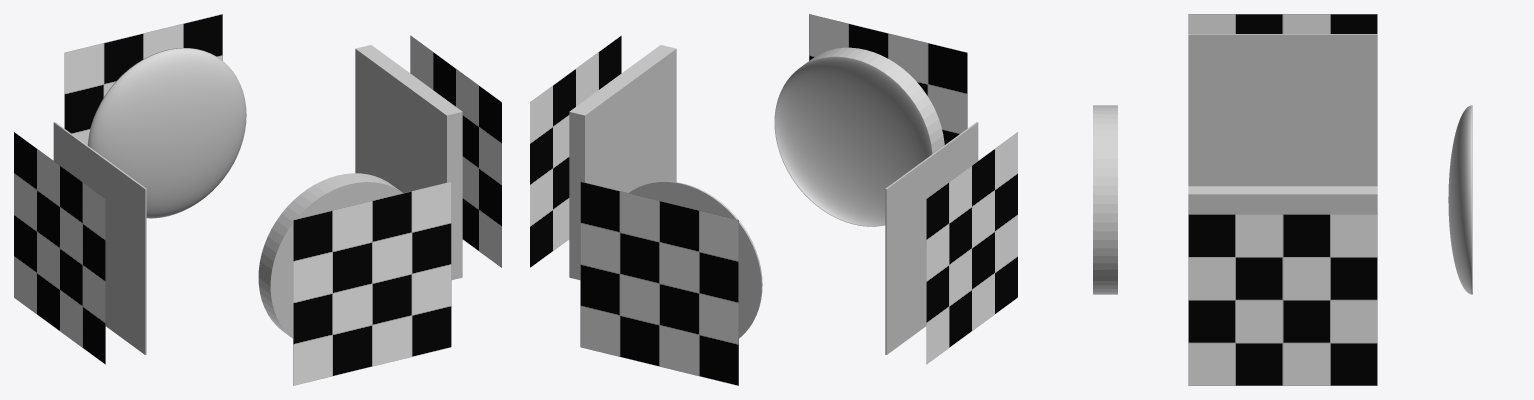
File: lense1.glb
3 renders of one model, left to right at view 1: azimuth 30°, elevation 25°; view 2: azimuth 150°, elevation 25°; view 3: azimuth 270°, elevation 25°, orthographic. The views are drawn at different scales.
Visible parts, largest first — view 1: Plane.001, Sphere, Plane.003, Plane, Cube, Plane.002, Plane.004, Sphere.001; view 2: Plane.004, Sphere.001, Plane.003, Plane, Cube, Plane.002, Plane.001, Sphere; view 3: Plane.002, Cube, Plane, Sphere.001, Plane.003, Sphere.
Part boxes in pixels (x1,y1,x2,y2): Plane.001: (293,181,451,385); Sphere: (87,48,246,218); Plane.003: (14,132,105,364); Plane: (355,45,462,279); Cube: (53,122,146,354); Plane.002: (410,35,501,267); Plane.004: (64,14,222,145); Sphere.001: (258,173,402,338); Plane.004: (580,181,738,385); Sphere.001: (774,47,944,226); Plane.003: (926,132,1017,364); Plane: (569,45,676,279); Cube: (885,122,978,354); Plane.002: (530,35,621,267); Plane.001: (809,14,967,144); Sphere: (629,181,762,338); Plane.002: (1188,214,1377,385); Cube: (1188,34,1377,186); Plane: (1188,186,1377,214); Sphere.001: (1093,105,1117,294); Plane.003: (1188,14,1377,33); Sphere: (1448,105,1472,294).
Size of the model in its own units: 5 by 2 by 5.
2 materials, 1 textured.
